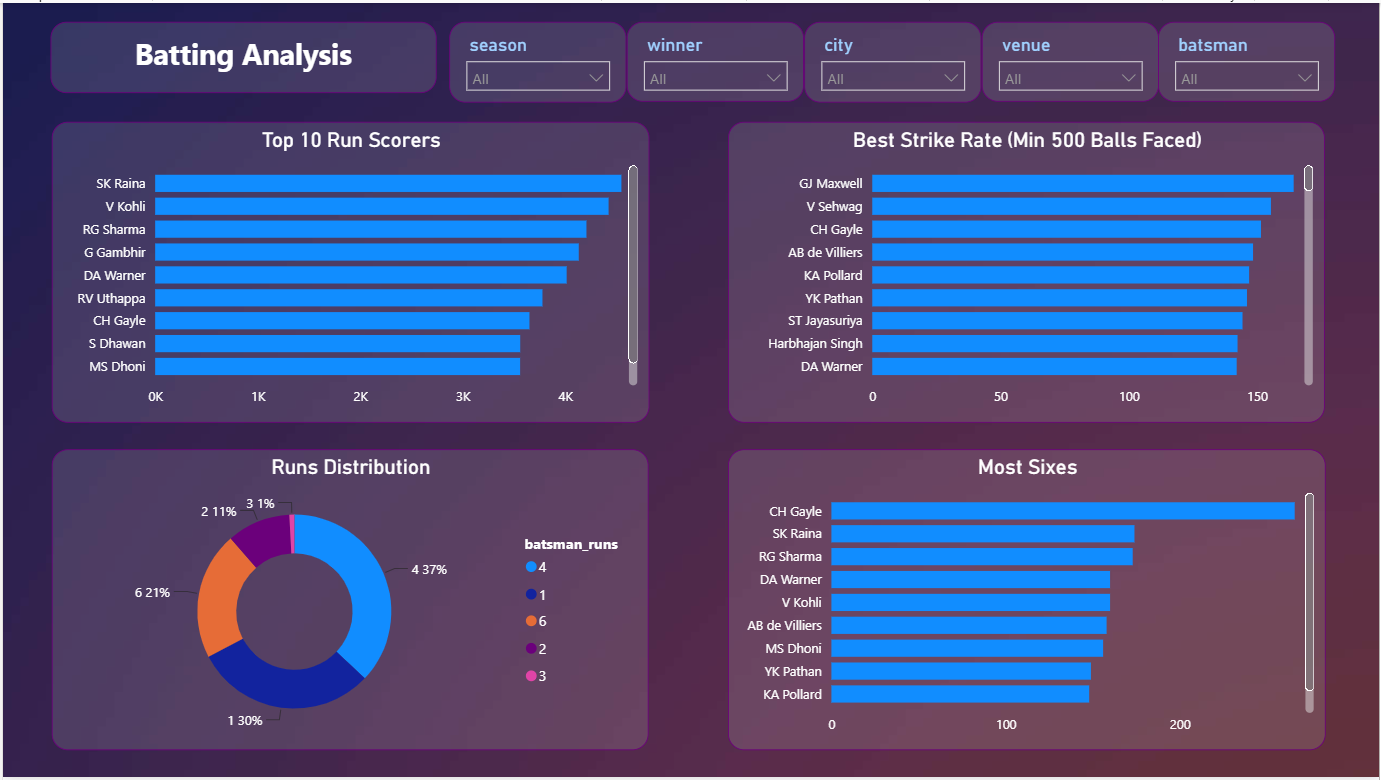

The page's visual inventory and layout, read from the dashboard file:
{"tool":"powerbi","page":{"name":"Batting Analysis","canvas":[1280,720],"ordinal":1},"visuals":[{"type":"clusteredBarChart","title":"Top 10 Run Scorers","fields":{"Category":["deliveries.batsman"],"Y":["Sum(deliveries.batsman_runs)"]},"box":[45,110,555.7,280],"z":0},{"type":"clusteredBarChart","title":"Most Sixes","fields":{"Category":["deliveries.batsman"],"Y":["deliveries.Player Sixes"]},"box":[675,415,555.9,280],"z":1000},{"type":"textbox","box":[44.3,17,359.1,66.4],"z":2000},{"type":"slicer","fields":{"Values":["deliveries.batsman"]},"box":[1075,17,165.1,74],"z":3000},{"type":"clusteredBarChart","title":"Best Strike Rate (Min 500 Balls Faced)","fields":{"Category":["deliveries.batsman"],"Y":["deliveries.Strike Rate"]},"box":[675,110,555,280],"z":4000},{"type":"donutChart","title":"Runs Distribution","fields":{"Category":["deliveries.batsman_runs"],"Y":["deliveries.Runs Contribution"]},"box":[45,415,555,280],"z":5000},{"type":"slicer","title":"Season","fields":{"Values":["matches.season"]},"box":[415,17,165.1,74.9],"z":6000},{"type":"slicer","title":"Team","fields":{"Values":["matches.winner"]},"box":[580,17,165.1,74],"z":7000},{"type":"slicer","title":"City","fields":{"Values":["matches.city"]},"box":[745,17,165.1,74.9],"z":8000},{"type":"slicer","title":"Venue","fields":{"Values":["matches.venue"]},"box":[910,17,165.1,74],"z":9000}]}

Visuals, with their boxes in screenshot pixels (x1, y1, x2, y2), scaled from the page's 1280x720 canvas onto the 1381x780 screenshot:
"Top 10 Run Scorers" clusteredBarChart: {"left": 49, "top": 119, "right": 648, "bottom": 422}
"Most Sixes" clusteredBarChart: {"left": 728, "top": 450, "right": 1328, "bottom": 753}
textbox: {"left": 48, "top": 18, "right": 435, "bottom": 90}
slicer - deliveries.batsman: {"left": 1160, "top": 18, "right": 1338, "bottom": 99}
"Best Strike Rate (Min 500 Balls Faced)" clusteredBarChart: {"left": 728, "top": 119, "right": 1327, "bottom": 422}
"Runs Distribution" donutChart: {"left": 49, "top": 450, "right": 647, "bottom": 753}
"Season" slicer: {"left": 448, "top": 18, "right": 626, "bottom": 100}
"Team" slicer: {"left": 626, "top": 18, "right": 804, "bottom": 99}
"City" slicer: {"left": 804, "top": 18, "right": 982, "bottom": 100}
"Venue" slicer: {"left": 982, "top": 18, "right": 1160, "bottom": 99}
